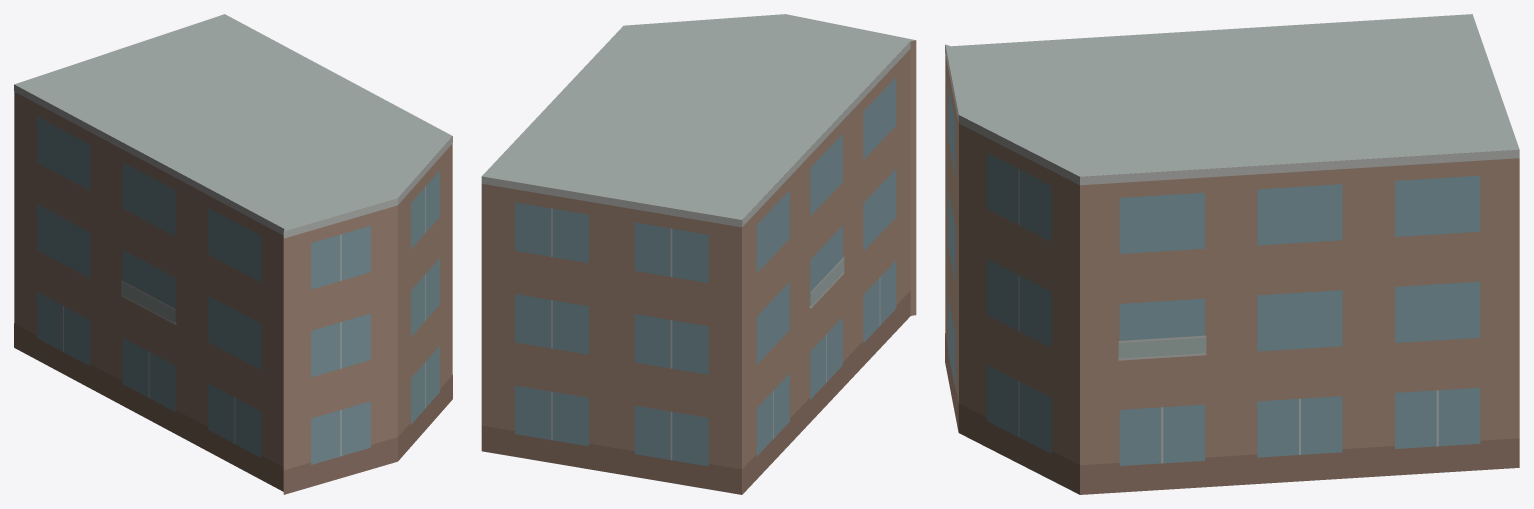
Rendered from survey-upis-32782045.glb.
3 views of the same model, side by side, from view 1: azimuth 30°, elevation 25°; view 2: azimuth 150°, elevation 25°; view 3: azimuth 270°, elevation 25° (orthographic). The views are drawn at different scales.
Visible parts, largest first — view 1: survey-upis-32782045.tmp; view 2: survey-upis-32782045.tmp; view 3: survey-upis-32782045.tmp.
Part boxes in pixels (left/top/right/bottom): survey-upis-32782045.tmp: left=14, top=14, right=452, bottom=494; survey-upis-32782045.tmp: left=481, top=14, right=916, bottom=494; survey-upis-32782045.tmp: left=945, top=14, right=1519, bottom=494.
Bounding box in the file's own units: 10.05 × 9.15 × 14.99.
